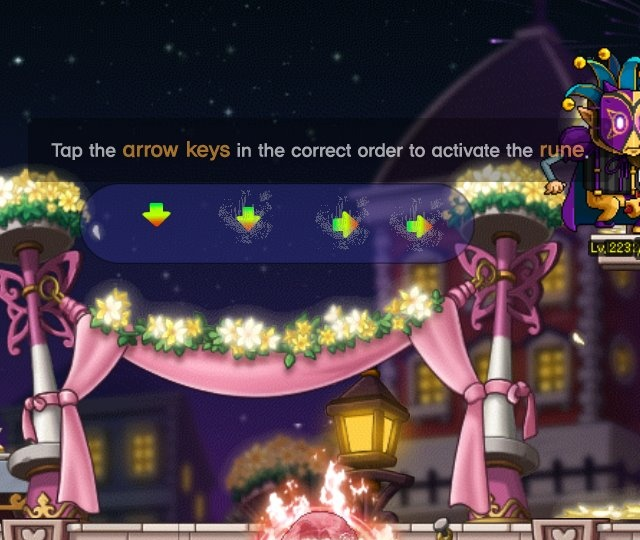down: (134, 195, 178, 234), (227, 200, 268, 238)
right: (322, 203, 366, 245), (400, 210, 437, 248)
